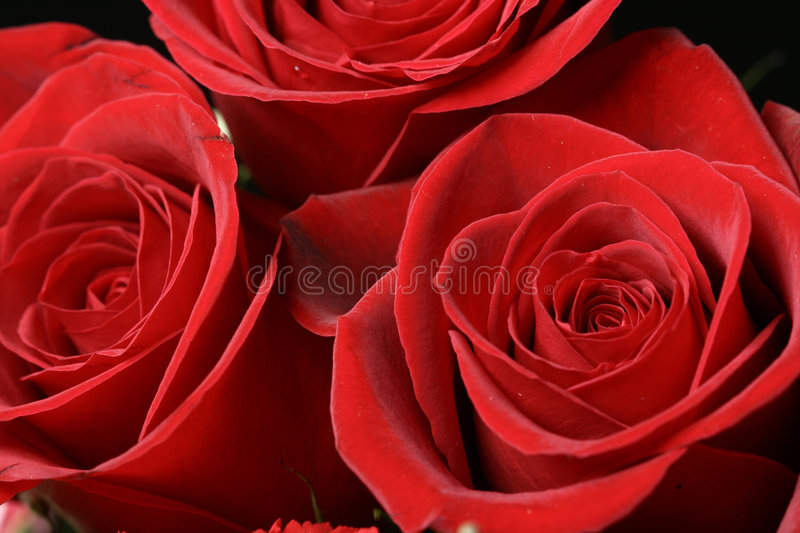RedRose: (357, 112, 790, 533), (4, 27, 340, 533)
